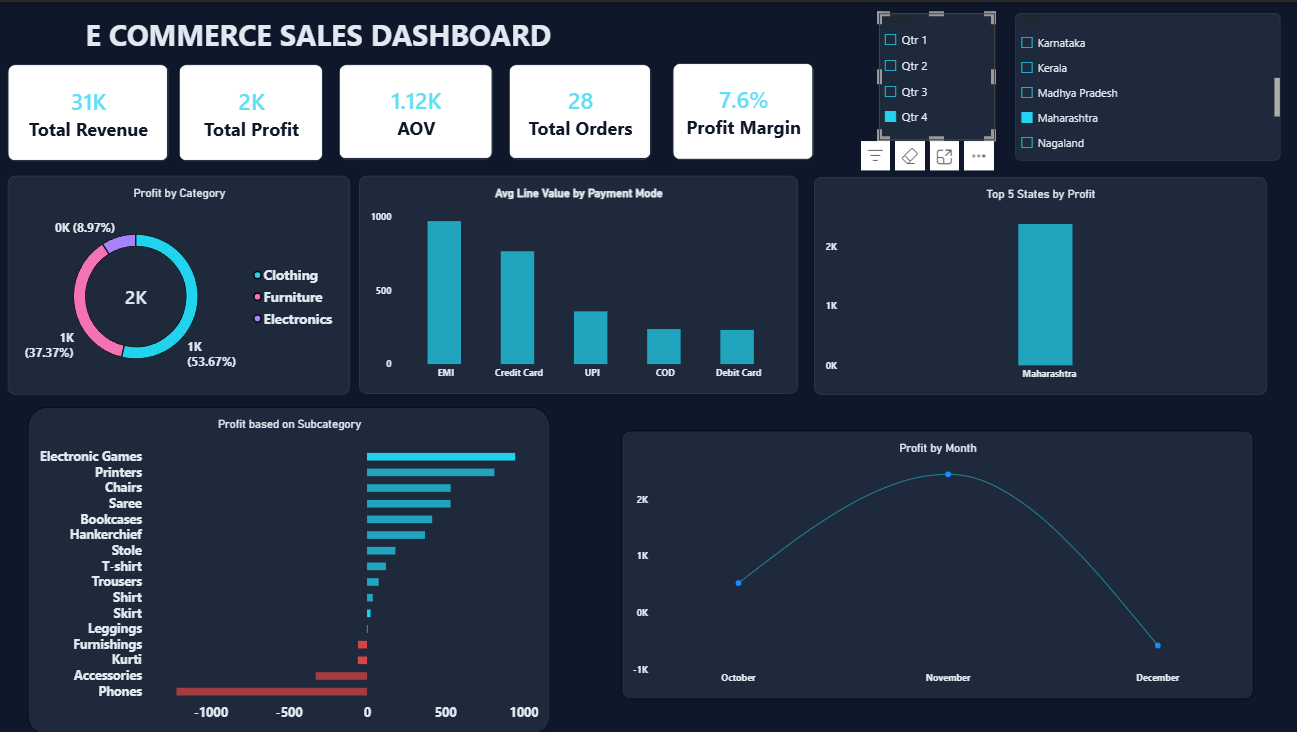

The page's visual inventory and layout, read from the dashboard file:
{"tool":"powerbi","page":{"name":"Page 1","canvas":[1920,1080],"ordinal":0},"visuals":[{"type":"textbox","box":[42.3,0,855.8,92],"z":0},{"type":"lineChart","title":"Profit by Month","fields":{"Category":["Orders.Order Date.Variation.Date Hierarchy.Month"],"Y":["Sum(Details.Profit)"]},"box":[916.6,631.3,930.4,395.2],"z":1000},{"type":"donutChart","title":"Profit by Category","fields":{"Category":["Details.Category"],"Y":["Sum(Details.Profit)"]},"box":[12.9,255.8,504.3,322.1],"z":2000},{"type":"columnChart","title":"Top 5 States by Profit","fields":{"Category":["Orders.State"],"Y":["Sum(Details.Profit)"]},"box":[1200,257.7,666.9,321.1],"z":3000},{"type":"barChart","title":"Profit based on Subcategory","fields":{"Category":["Details.Sub-Category"],"Y":["Sum(Details.Profit)"]},"box":[42.3,596.3,769.3,484.1],"z":4000},{"type":"clusteredColumnChart","title":"Avg Line Value by Payment Mode","fields":{"Category":["Details.PaymentMode"],"Y":["Avg(Details.Amount)"]},"box":[530.1,255.8,646.3,321.1],"z":5000},{"type":"cardVisual","fields":{"Data":["Sum(Details.Amount)"]},"box":[12.9,92,236.7,142],"z":6000},{"type":"cardVisual","fields":{"Data":["Sum(Details.Profit)"]},"box":[265,92,212,142],"z":7000},{"type":"cardVisual","fields":{"Data":["Details.Average Order Value"]},"box":[500.6,92,226.4,140],"z":7001},{"type":"cardVisual","fields":{"Data":["Details.Total Orders"]},"box":[750.9,92,209.9,140],"z":7002},{"type":"cardVisual","fields":{"Data":["Details.Profit Margin %"]},"box":[992,90.2,207.9,142],"z":7003},{"type":"slicer","fields":{"Values":["Orders.Order Date.Variation.Date Hierarchy.Quarter"]},"box":[1295.7,16.6,171.2,187.7],"z":7004},{"type":"slicer","fields":{"Values":["Orders.State"]},"box":[1496.3,16.6,390.2,217.2],"z":7005}]}

Visuals, with their boxes in screenshot pixels (x1, y1, x2, y2), scaled from the page's 1920x1080 canvas onto the 1297x732 screenshot:
textbox: box(29, 0, 607, 62)
"Profit by Month" lineChart: box(619, 428, 1248, 696)
"Profit by Category" donutChart: box(9, 173, 349, 392)
"Top 5 States by Profit" columnChart: box(811, 175, 1261, 392)
"Profit based on Subcategory" barChart: box(29, 404, 548, 731)
"Avg Line Value by Payment Mode" clusteredColumnChart: box(358, 173, 795, 391)
cardVisual - Sum(Details.Amount): box(9, 62, 169, 159)
cardVisual - Sum(Details.Profit): box(179, 62, 322, 159)
cardVisual - Details.Average Order Value: box(338, 62, 491, 157)
cardVisual - Details.Total Orders: box(507, 62, 649, 157)
cardVisual - Details.Profit Margin %: box(670, 61, 811, 157)
slicer - Orders.Order Date.Variation.Date Hierarchy.Quarter: box(875, 11, 991, 138)
slicer - Orders.State: box(1011, 11, 1274, 158)
